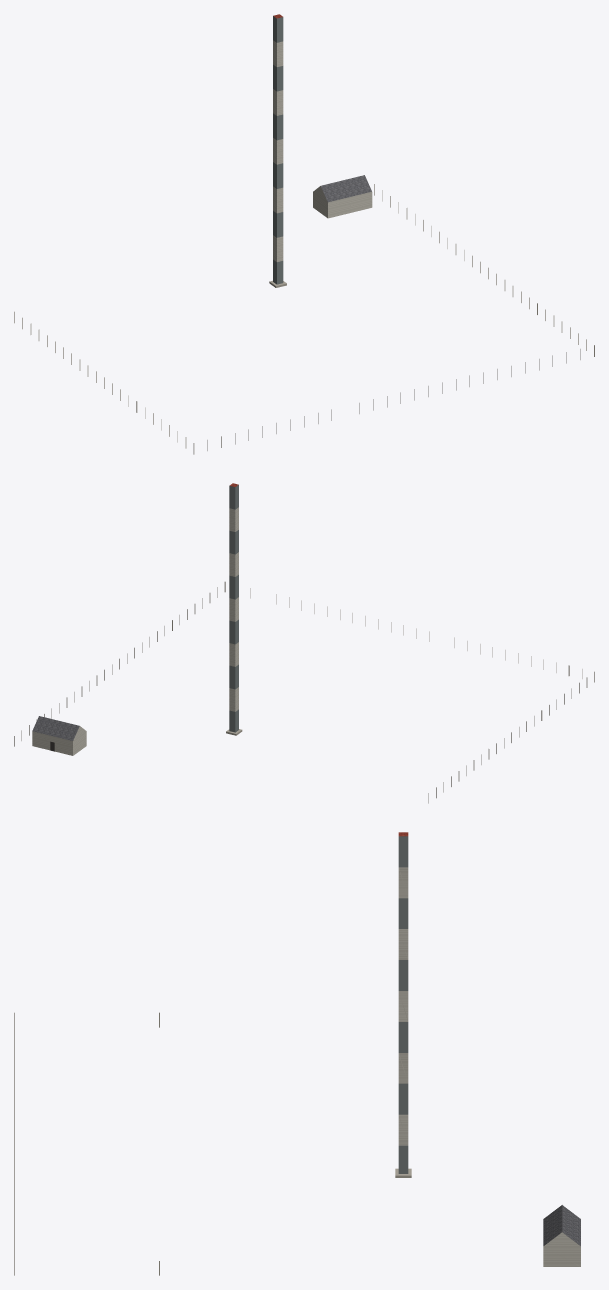
The model's file is cyxd_ndb_xd_lod2.gltf.
3 renders of one model, top to bottom at view 1: azimuth 30°, elevation 25°; view 2: azimuth 150°, elevation 25°; view 3: azimuth 270°, elevation 25°, orthographic. The views are drawn at different scales.
Parts seen in each view (by area): view 1: cyxd_ndb_xd; view 2: cyxd_ndb_xd; view 3: cyxd_ndb_xd.
Boxes of the visible parts, <box> form: cyxd_ndb_xd: <box>14,14,594,454</box>; cyxd_ndb_xd: <box>14,483,594,803</box>; cyxd_ndb_xd: <box>14,832,580,1275</box>.
Bounding box in the file's own units: 86.12 × 55 × 85.12.
